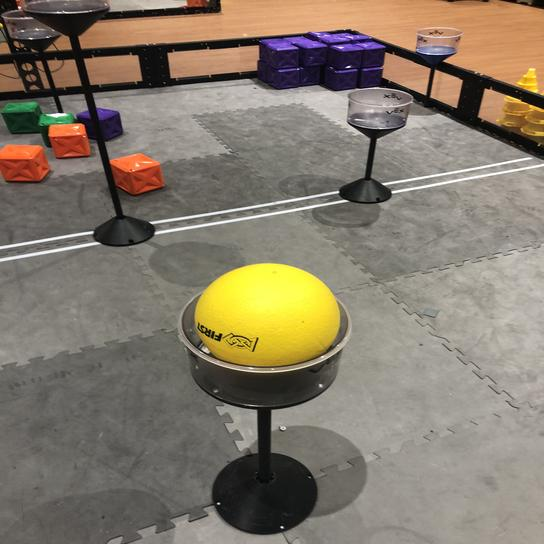ball: (190, 260, 344, 374)
